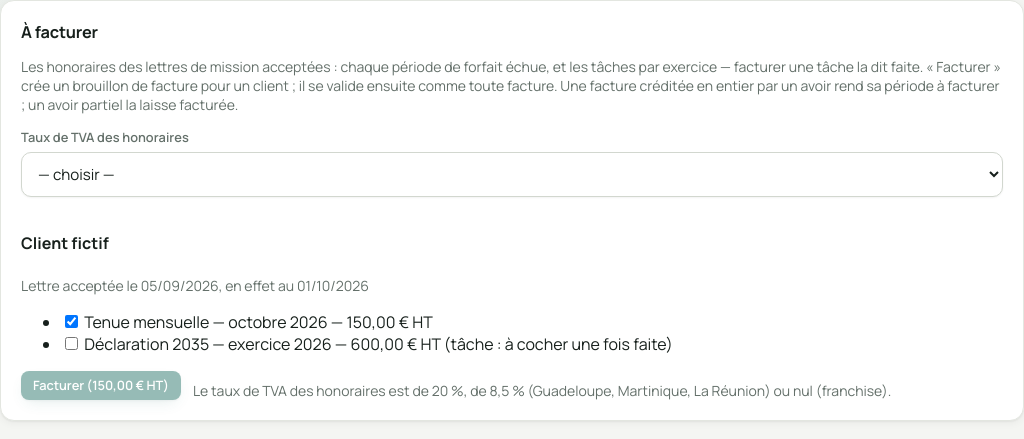
drapeau levé › range par client et par lettre ; le forfait échu coché, la tâche à cocher ; le refus dit avant le clic
The width and height of the screenshot is (1024, 439).
Expected: the checkbox labelled "Tenue mensuelle — octobre 2026 — 150,00 € HT" is checked, [65, 314, 78, 328]
Expected: the checkbox labelled "exercice 2026" is not checked, [65, 336, 78, 350]
Select "20 %" in the dropdown labelled "Taux de TVA des honoraires" at (512, 174), box [21, 152, 1003, 197]
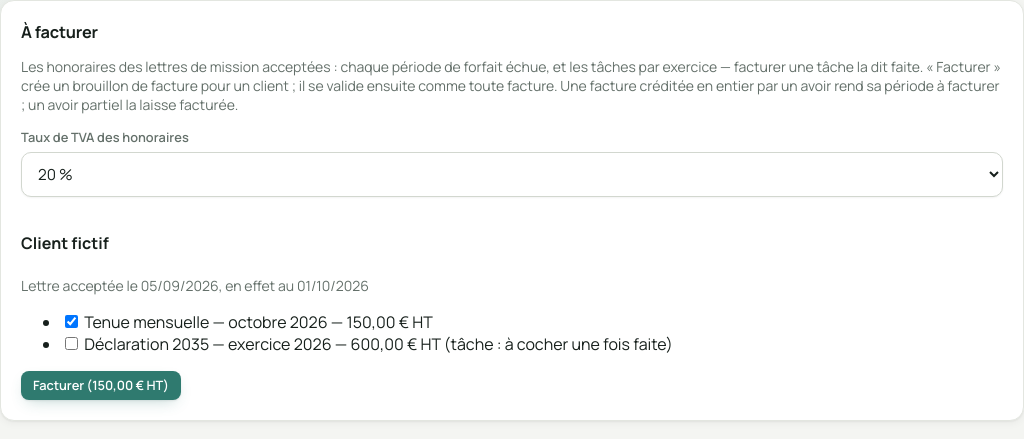
Click the checkbox labelled "Tenue mensuelle — octobre 2026 — 150,00 € HT" at (72, 321), box [65, 314, 78, 328]
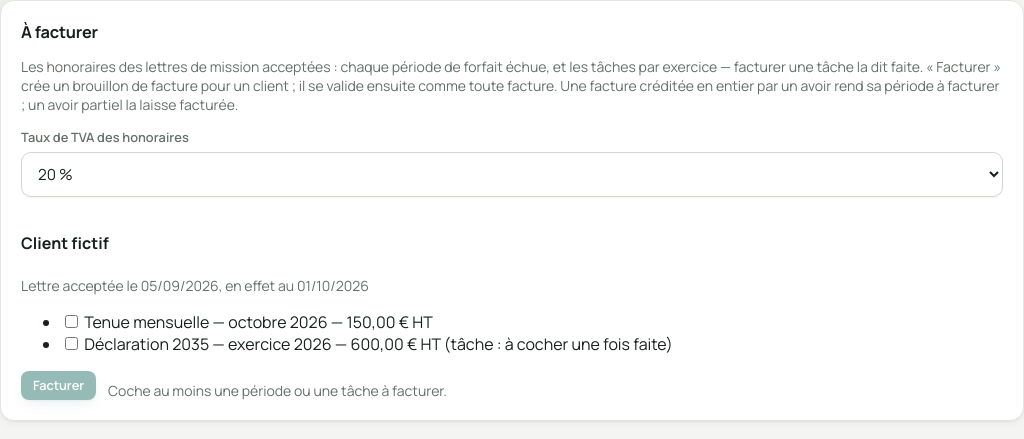
Result: the text "Coche au moins une période ou une tâche à facturer." is shown at [108, 381, 447, 400]
Result: the button "Facturer" is disabled at [21, 370, 96, 400]
